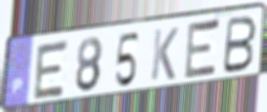5: (113, 30, 140, 88)
8: (74, 35, 104, 95)
B: (220, 14, 259, 76)
E: (182, 16, 222, 82), (31, 38, 71, 102)
K: (148, 26, 180, 83)
